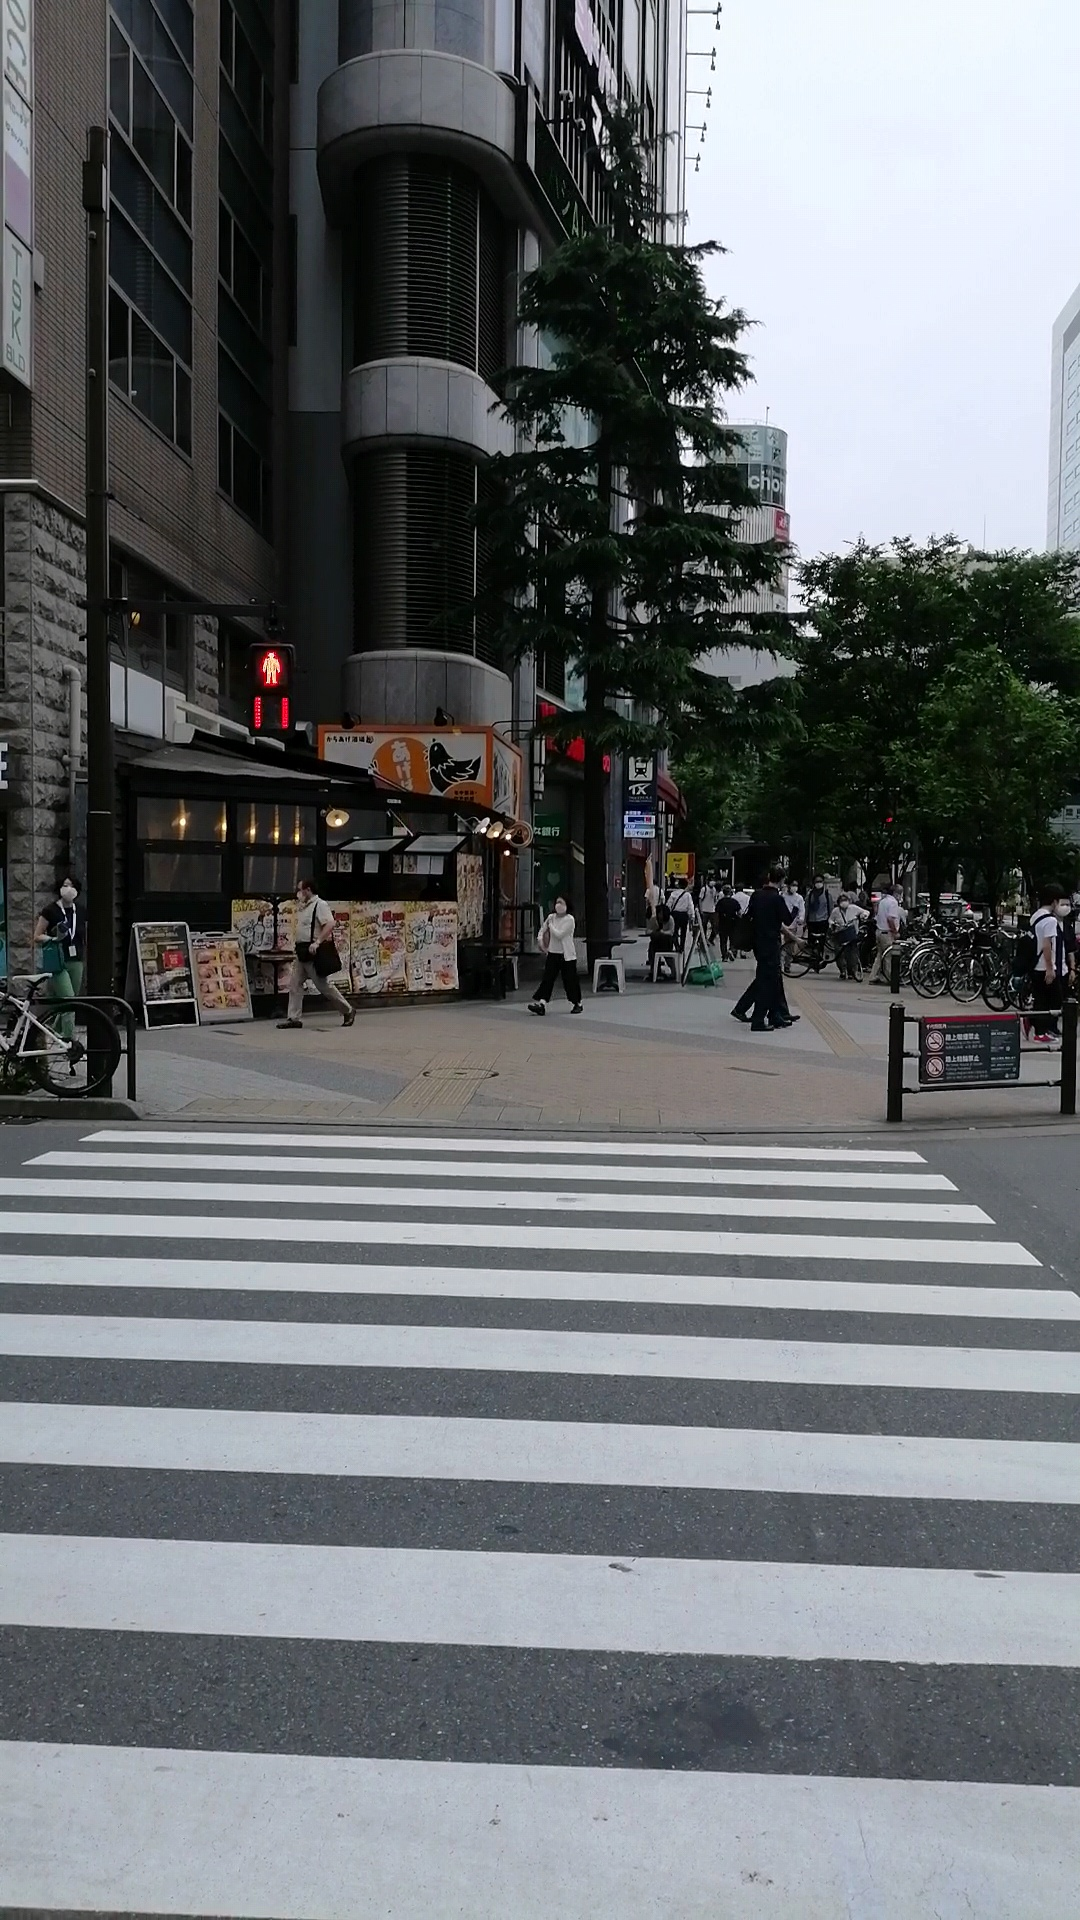red: (249, 642, 297, 735)
